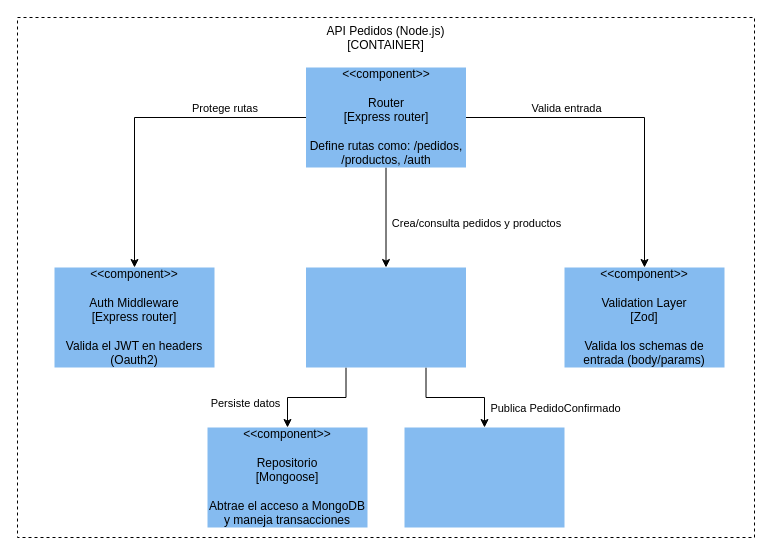
The diagram is 772 pixels wide and 555 high, and some of its shapes have lost their labels. Each missing label, with the centre of its shape:
<<component>> RabitMQ Publisher [amqplib] Publica el evento PedidoConfirmado: (x=484, y=477)
<<component>> Service [Clases/Funciones] Lógica de negocio: (x=386, y=317)
